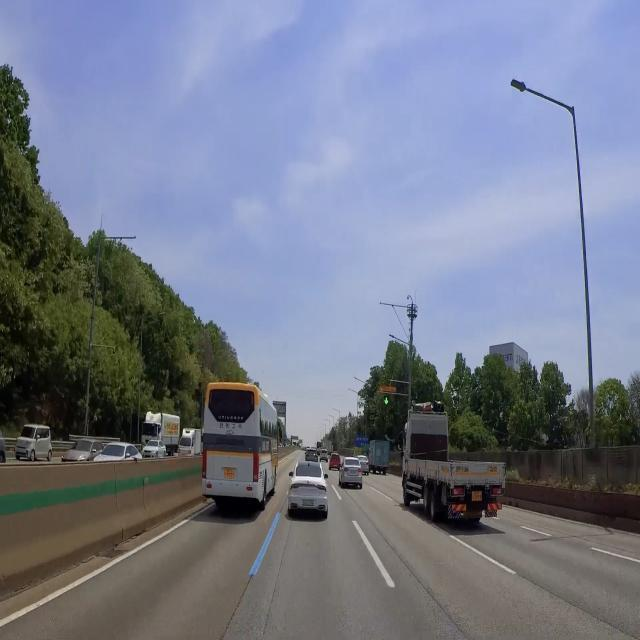car: (220, 464, 238, 484), (470, 486, 485, 505), (300, 495, 317, 510), (347, 470, 358, 482)
